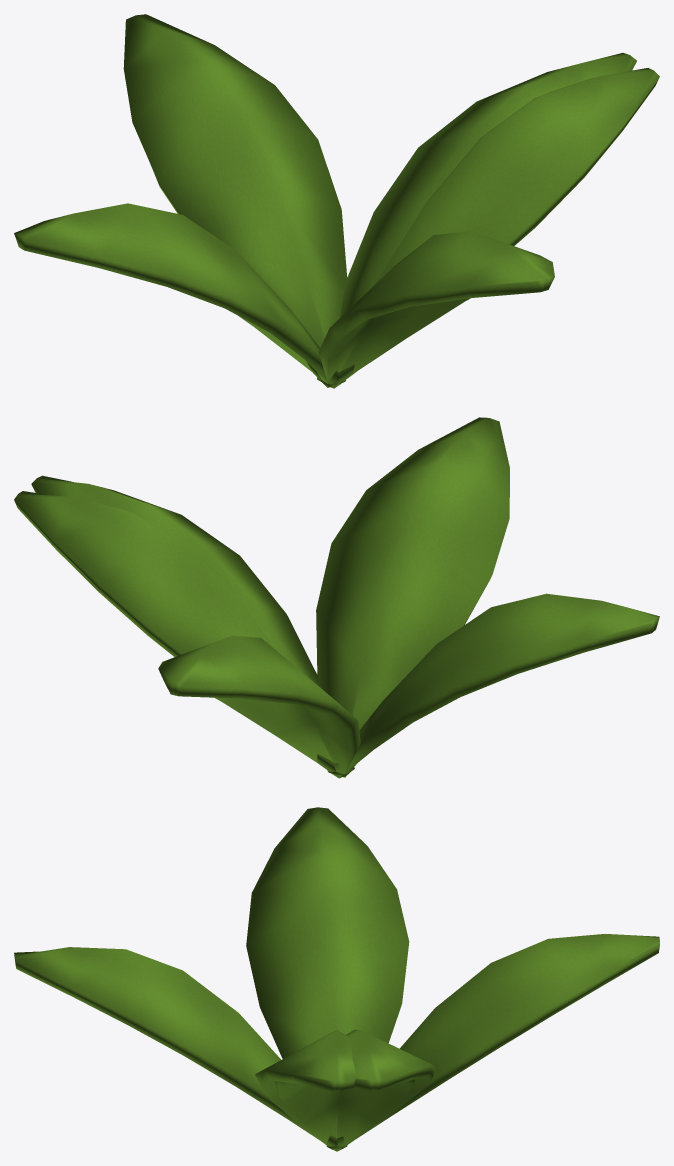
Rendered from fern.glb.
3 views of the same model, one above another, from view 1: azimuth 30°, elevation 25°; view 2: azimuth 150°, elevation 25°; view 3: azimuth 270°, elevation 25° (orthographic). The views are drawn at different scales.
Visible parts, largest first — view 1: Garden fern; view 2: Garden fern; view 3: Garden fern.
Part boxes in pixels (left/top/right/bottom): Garden fern: left=14, top=14, right=659, bottom=388; Garden fern: left=14, top=417, right=659, bottom=778; Garden fern: left=14, top=807, right=659, bottom=1151.
Bounding box in the file's own units: 0.9031 × 0.328 × 0.9026.
Materials: 1 (1 with a texture image).
